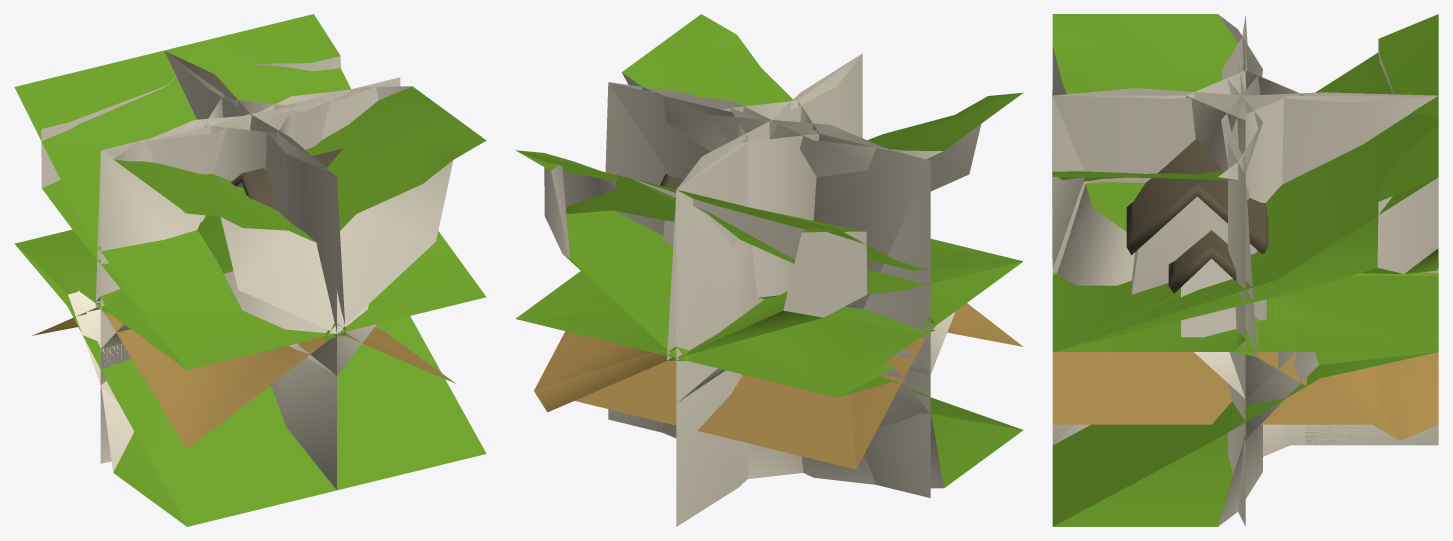
File: WFC_004.fbx
3 views of the same model, side by side, from view 1: azimuth 30°, elevation 25°; view 2: azimuth 150°, elevation 25°; view 3: azimuth 270°, elevation 25° (orthographic). The views are drawn at different scales.
Visible parts, largest first — view 1: wfc_module_17, wfc_module_24, wfc_module_19, wfc_module_21, wfc_module_23, wfc_module_22, wfc_module_35, wfc_module_12, wfc_module_1, wfc_module_8, wfc_module_28, wfc_module_18 (+13 smaller); view 2: wfc_module_22, wfc_module_29, wfc_module_35, wfc_module_24, wfc_module_26, wfc_module_7, wfc_module_23, wfc_module_37, wfc_module_11, wfc_module_21, wfc_module_8, wfc_module_12 (+19 smaller); view 3: wfc_module_23, wfc_module_33, wfc_module_28, wfc_module_27, wfc_module_19, wfc_module_17, wfc_module_21, wfc_module_0, wfc_module_4, wfc_module_8, wfc_module_20, wfc_module_6 (+17 smaller).
Part boxes in pixels (<box>): wfc_module_17: <box>16,245,486,526</box>; wfc_module_24: <box>101,86,486,369</box>; wfc_module_19: <box>15,37,350,369</box>; wfc_module_21: <box>14,40,486,369</box>; wfc_module_23: <box>113,85,368,333</box>; wfc_module_22: <box>26,62,345,449</box>; wfc_module_35: <box>100,52,299,387</box>; wfc_module_12: <box>164,51,346,330</box>; wfc_module_1: <box>104,309,336,489</box>; wfc_module_8: <box>108,14,484,370</box>; wfc_module_28: <box>204,125,455,383</box>; wfc_module_18: <box>101,388,186,526</box>; wfc_module_22: <box>517,151,1023,392</box>; wfc_module_29: <box>574,82,930,469</box>; wfc_module_35: <box>676,143,764,526</box>; wfc_module_24: <box>622,14,1022,324</box>; wfc_module_26: <box>798,101,930,497</box>; wfc_module_7: <box>518,227,866,357</box>; wfc_module_23: <box>644,90,1023,191</box>; wfc_module_37: <box>534,82,676,410</box>; wfc_module_11: <box>740,133,936,324</box>; wfc_module_21: <box>516,150,1022,294</box>; wfc_module_8: <box>516,150,1021,270</box>; wfc_module_12: <box>518,53,862,354</box>; wfc_module_23: <box>1052,14,1262,351</box>; wfc_module_33: <box>1053,95,1437,184</box>; wfc_module_28: <box>1052,96,1371,424</box>; wfc_module_27: <box>1126,139,1438,347</box>; wfc_module_19: <box>1250,53,1438,279</box>; wfc_module_17: <box>1052,352,1436,526</box>; wfc_module_21: <box>1052,14,1438,351</box>; wfc_module_0: <box>1233,276,1438,351</box>; wfc_module_4: <box>1053,433,1242,526</box>; wfc_module_8: <box>1054,126,1438,351</box>; wfc_module_20: <box>1218,276,1437,526</box>; wfc_module_6: <box>1245,276,1438,398</box>.
Bounding box in the file's own units: 1 × 1 × 1.
